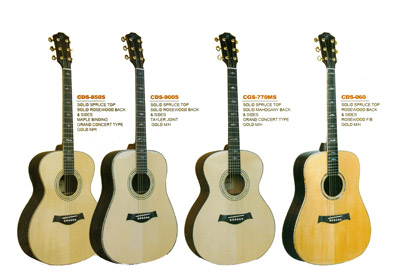guitar: (184, 33, 276, 265), (90, 31, 178, 265), (283, 32, 371, 266), (18, 30, 98, 267)
